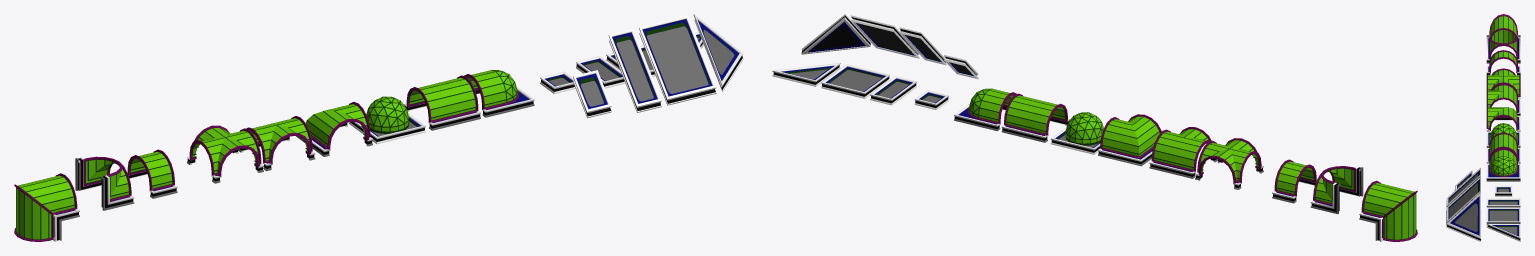
Rendered from ColonyFactory_Roof00.fbx.
The picture shows the model from 3 angles, left to right: view 1: azimuth 30°, elevation 25°; view 2: azimuth 150°, elevation 25°; view 3: azimuth 270°, elevation 25°; orthographic projection. The views are drawn at different scales.
Visible parts, largest first — view 1: Box020, Box032, Box025, Box021, Box031, Box029, Box026, Box024, Box027, Box028, Box023, Box030 (+3 smaller); view 2: Box032, Box027, Box028, Box025, Box031, Box029, Box024, Box026, Box016, Box023, Box020, Box030 (+5 smaller); view 3: Box024, Box023, Box032, Box028, Box016, Box020, Box029, Box025, Box027, Box031, Box019, Box026 (+5 smaller).
Part boxes in pixels (x1=…): Box020: x1=639, y1=15, x2=716, y2=105; Box032: x1=14, y1=173, x2=79, y2=241; Box025: x1=404, y1=75, x2=480, y2=130; Box021: x1=608, y1=29, x2=661, y2=112; Box031: x1=75, y1=156, x2=134, y2=210; Box029: x1=187, y1=125, x2=263, y2=183; Box026: x1=348, y1=96, x2=425, y2=144; Box024: x1=464, y1=70, x2=534, y2=117; Box027: x1=296, y1=102, x2=372, y2=156; Box028: x1=238, y1=116, x2=315, y2=171; Box023: x1=693, y1=14, x2=743, y2=91; Box030: x1=127, y1=149, x2=177, y2=198; Box032: x1=1359, y1=180, x2=1417, y2=241; Box027: x1=1098, y1=114, x2=1161, y2=166; Box028: x1=1149, y1=127, x2=1217, y2=178; Box025: x1=1001, y1=93, x2=1070, y2=142; Box031: x1=1310, y1=166, x2=1363, y2=214; Box029: x1=1195, y1=138, x2=1263, y2=189; Box024: x1=954, y1=88, x2=1016, y2=131; Box026: x1=1050, y1=112, x2=1104, y2=154; Box016: x1=821, y1=64, x2=889, y2=98; Box023: x1=801, y1=14, x2=870, y2=54; Box020: x1=850, y1=15, x2=919, y2=58; Box030: x1=1272, y1=159, x2=1317, y2=203; Box024: x1=1486, y1=148, x2=1520, y2=181; Box023: x1=1446, y1=193, x2=1481, y2=241; Box032: x1=1489, y1=14, x2=1517, y2=43; Box028: x1=1486, y1=83, x2=1520, y2=115; Box016: x1=1486, y1=207, x2=1520, y2=225; Box020: x1=1446, y1=176, x2=1480, y2=225; Box029: x1=1486, y1=68, x2=1520, y2=98; Box025: x1=1486, y1=132, x2=1520, y2=163; Box027: x1=1486, y1=106, x2=1520, y2=131; Box031: x1=1486, y1=35, x2=1520, y2=63; Box019: x1=1486, y1=223, x2=1520, y2=241; Box026: x1=1486, y1=123, x2=1520, y2=147.
Bounding box in the file's own units: 578 × 60 × 87.23.
